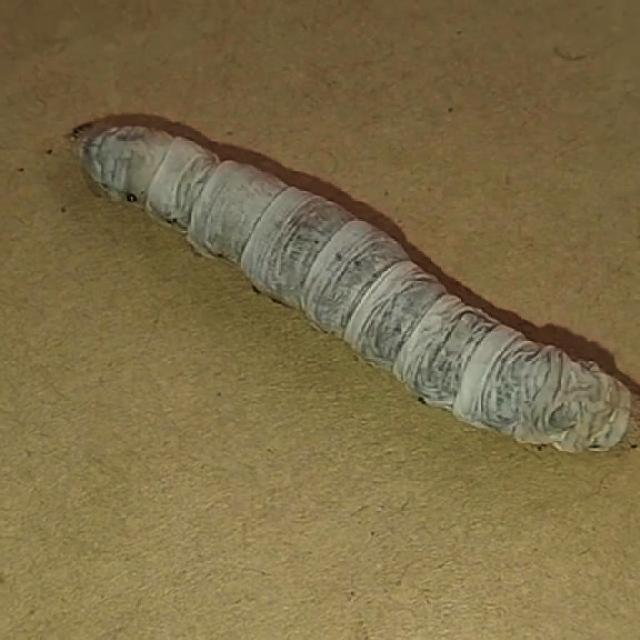Grasserie: (57, 92, 639, 498)
